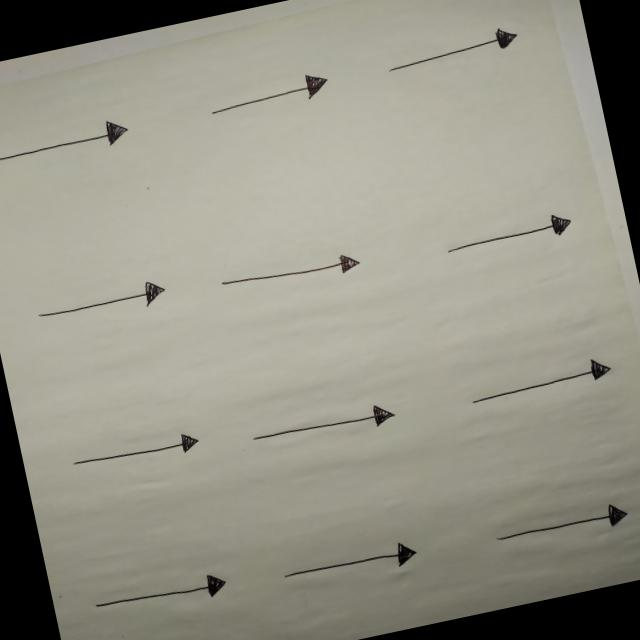arrow_line_right: (202, 236, 370, 310), (238, 388, 406, 462), (370, 15, 536, 86), (82, 560, 236, 636), (479, 488, 640, 560), (54, 414, 214, 484), (458, 349, 624, 416), (268, 529, 426, 597), (0, 104, 144, 178), (432, 202, 587, 266), (26, 270, 176, 334), (190, 64, 334, 125)
